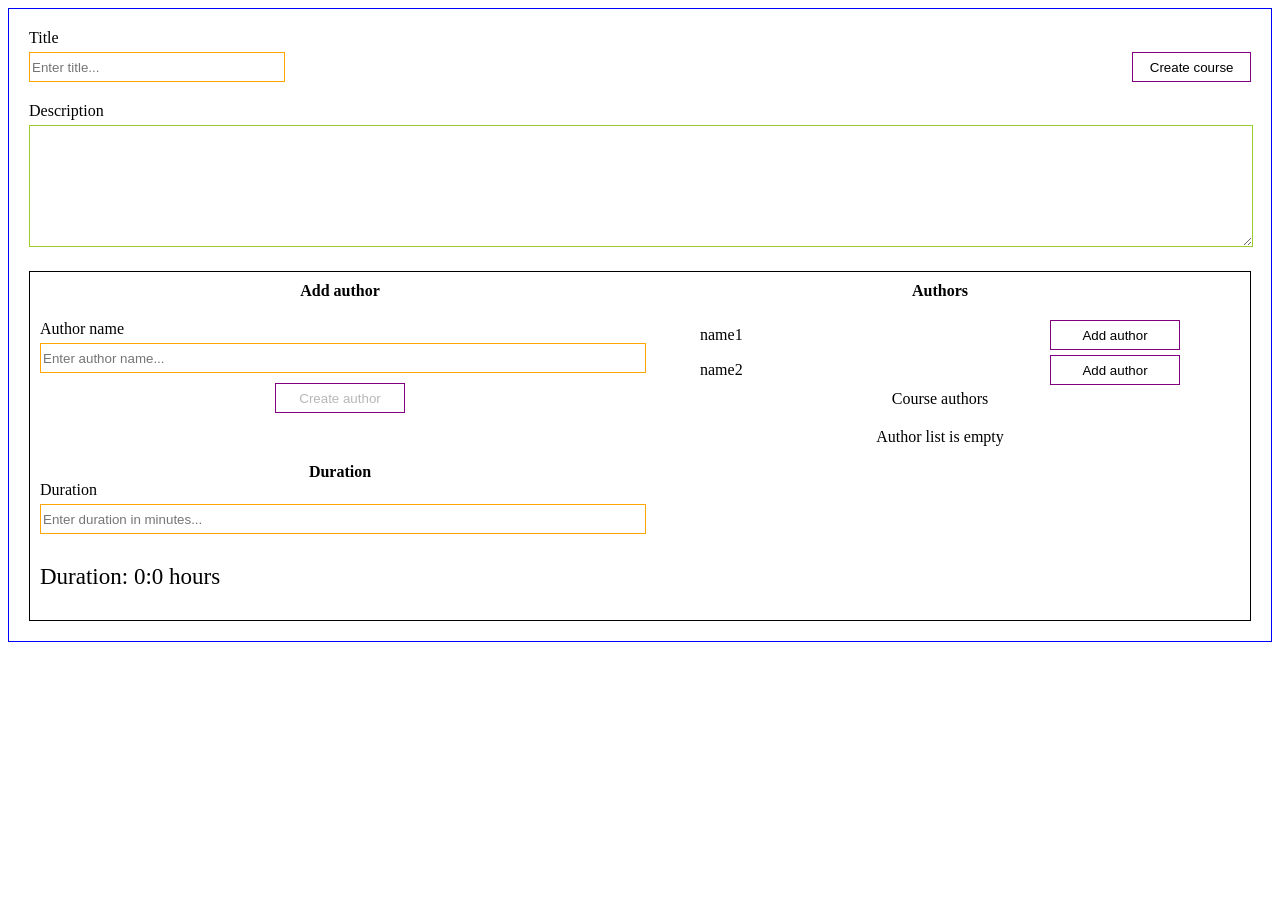
Test case: CourseForm component › Add author button click should add an author to course authors list
Click the button with test id "addButton1".
click(1115, 370)  # box [1050,355,1180,385]
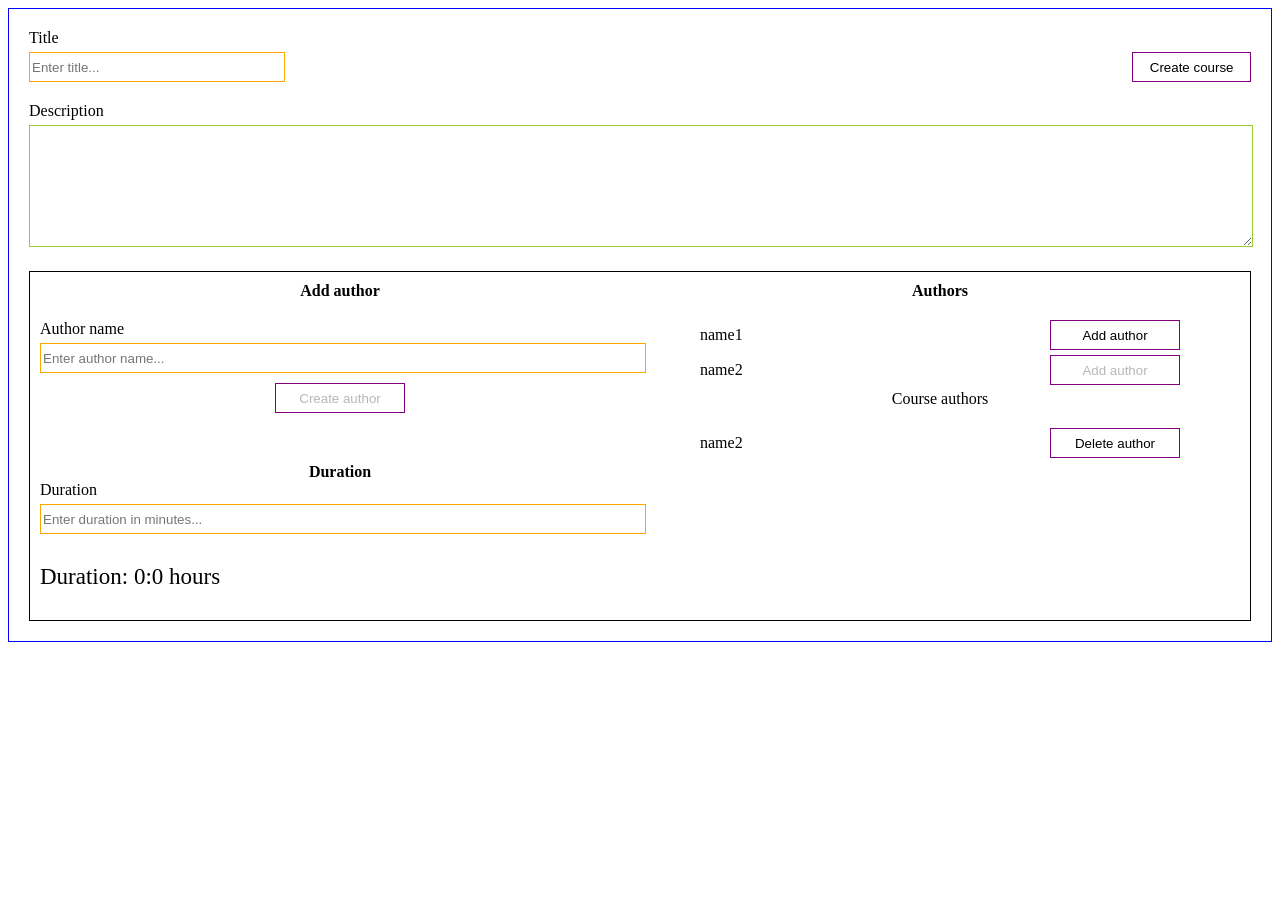
Now the number of list items with test id "coursesAuthorsList" is 1, box [700,428,1180,458]
